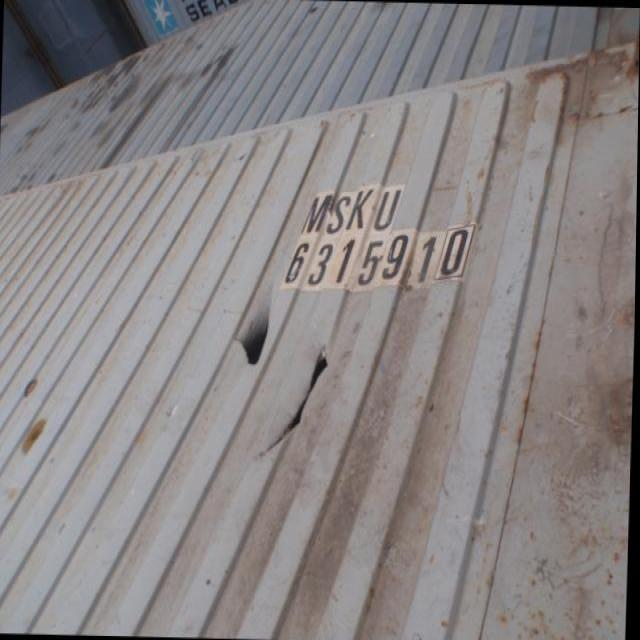hole: (262, 341, 332, 460), (233, 301, 273, 368)
